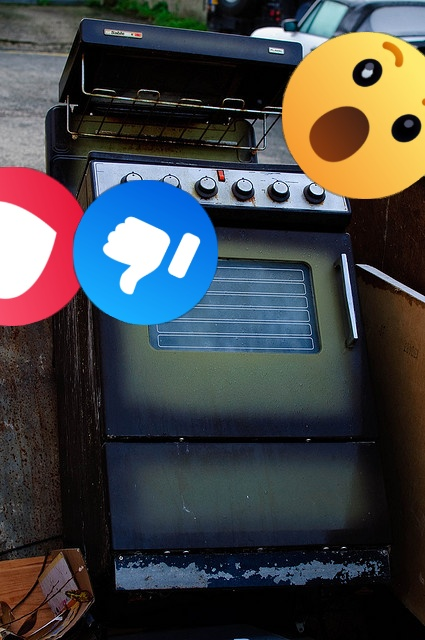like: (73, 180, 218, 325)
love: (0, 167, 91, 326)
wow: (282, 32, 425, 199)
